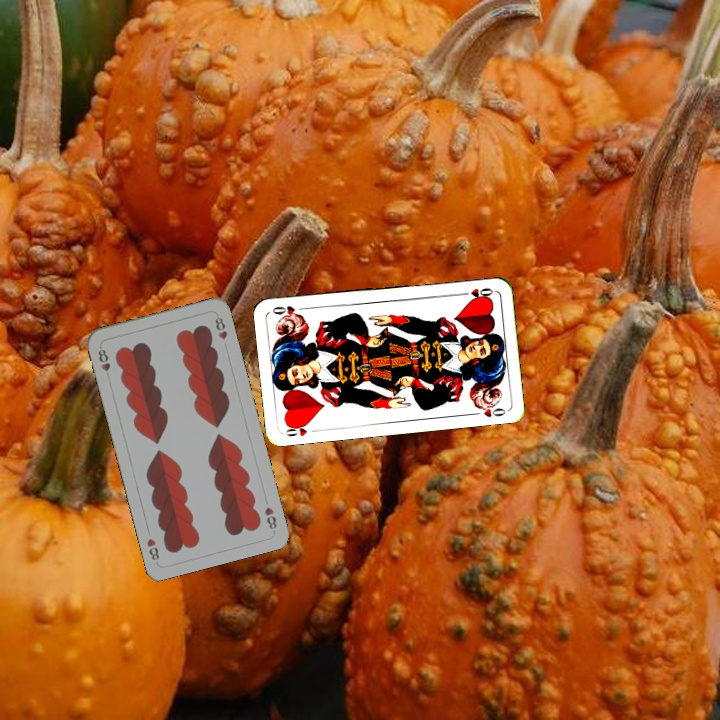H8: (94, 345, 113, 382), (260, 503, 279, 534)
HO: (281, 419, 321, 439), (456, 284, 496, 301)
